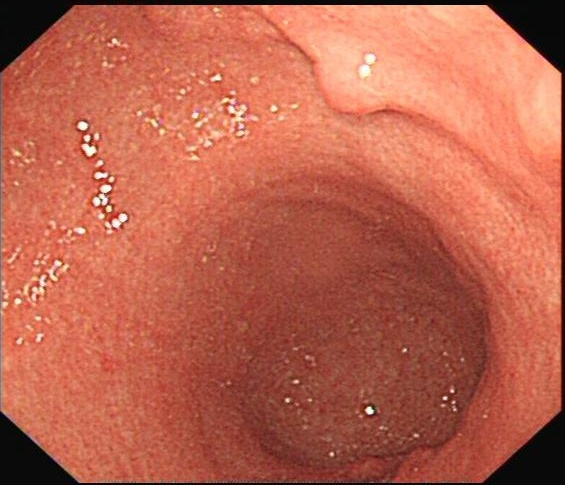Polyp: (309, 46, 391, 121)
